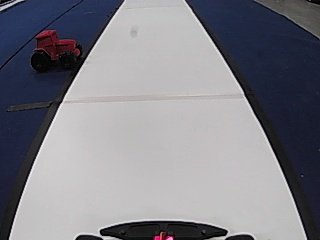tractor: (29, 28, 83, 71)
